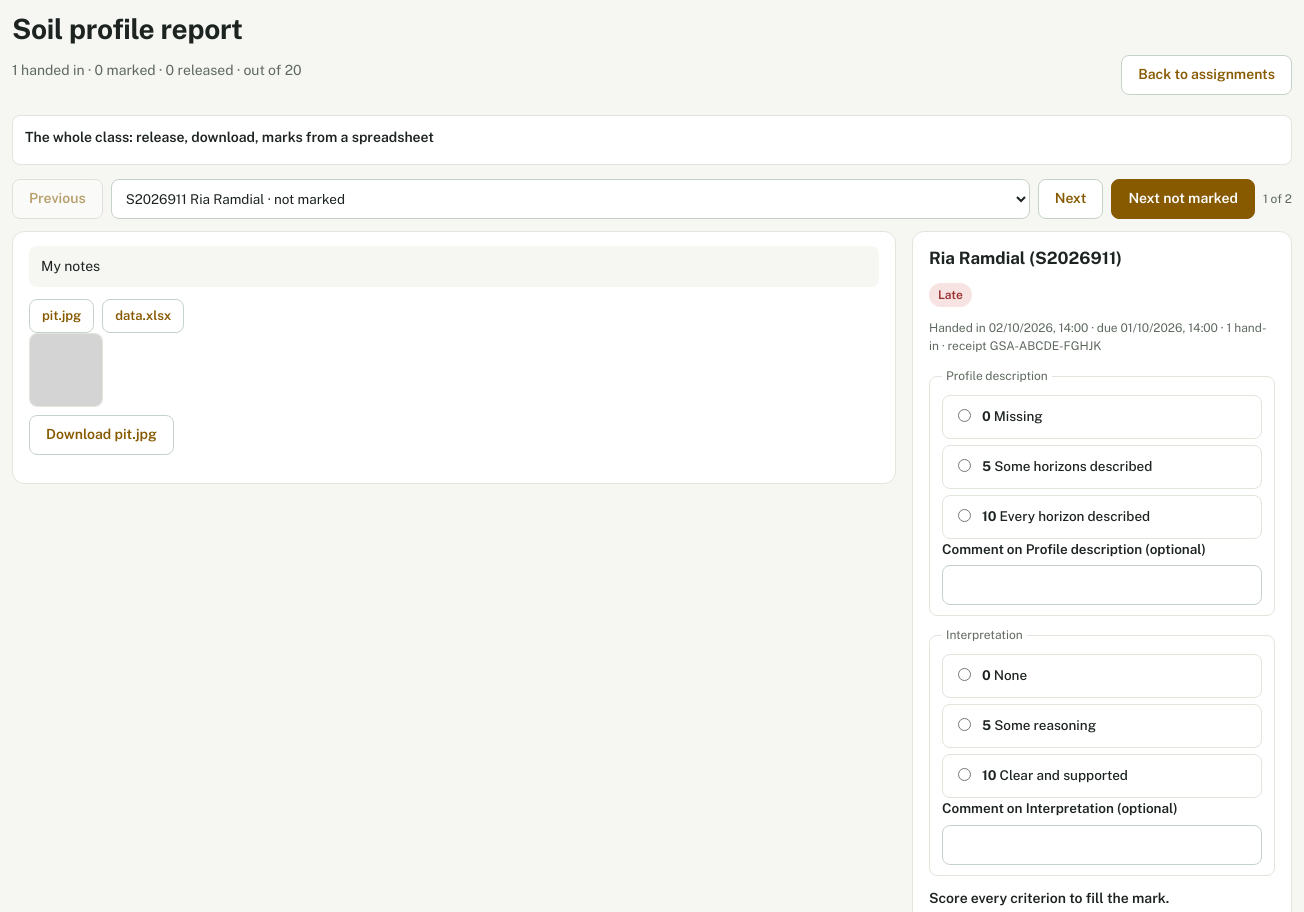
the marking screen (items 2.23 to 2.25, 3.09, 3.16 to 3.18) › shows a photograph inline and offers anything else to download
Expected: the text "My notes" is shown, [29,246,879,287]
Click the button "data.xlsx".
click(143, 316)  # box [102,299,184,333]
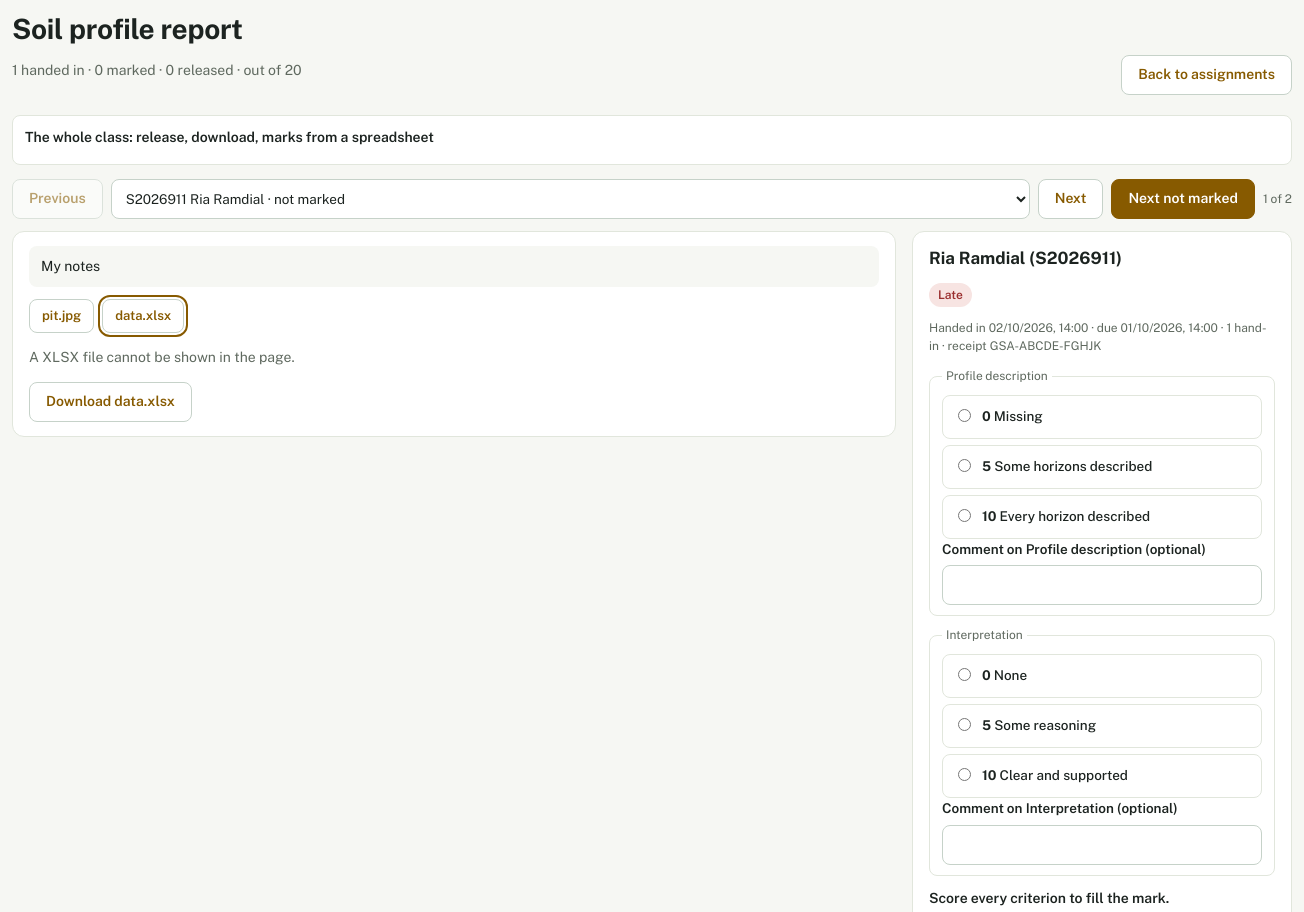
Expected: the text "A XLSX file cannot be shown in the page." is shown, [29,349,295,365]
Expected: the link "Download data.xlsx" is shown, [29,382,192,422]
